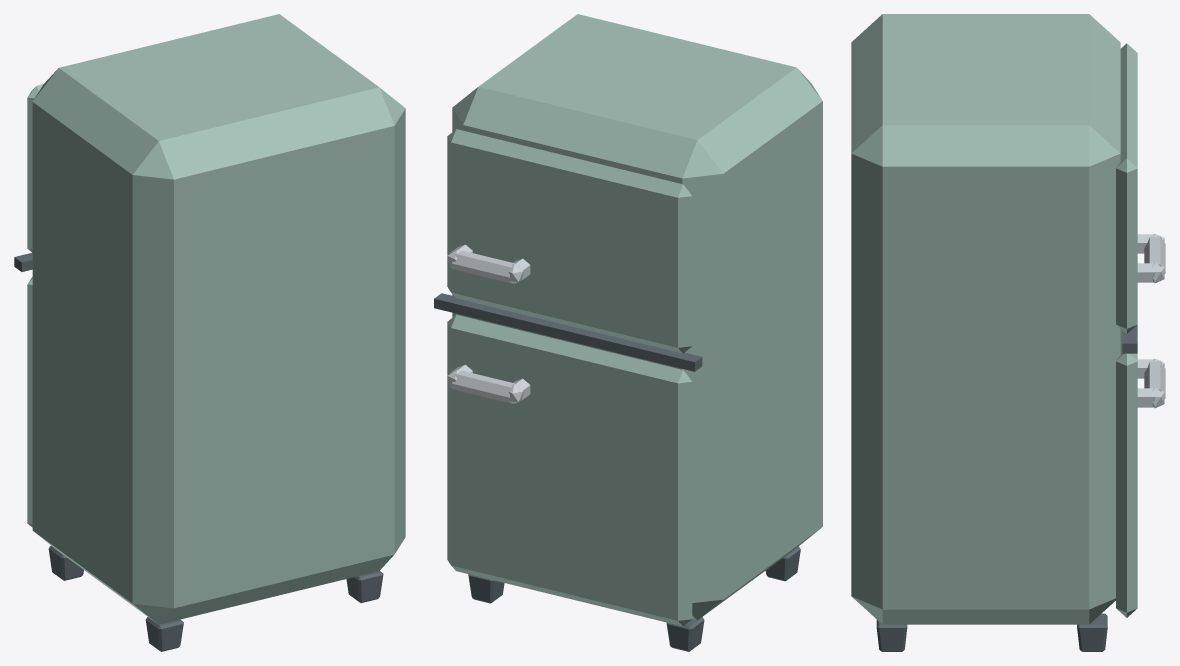
File: BUILD0039_VintageRefrigerator.fbx
3 views of the same model, side by side, from view 1: azimuth 30°, elevation 25°; view 2: azimuth 150°, elevation 25°; view 3: azimuth 270°, elevation 25° (orthographic). The views are drawn at different scales.
Parts seen in each view (by area): view 1: BUILD0039_VintageRefrigerator; view 2: BUILD0039_VintageRefrigerator; view 3: BUILD0039_VintageRefrigerator.
Part boxes in pixels (x1=…): BUILD0039_VintageRefrigerator: x1=14, y1=14, x2=405, y2=651; BUILD0039_VintageRefrigerator: x1=434, y1=14, x2=822, y2=651; BUILD0039_VintageRefrigerator: x1=851, y1=14, x2=1165, y2=651.
Bounding box in the file's own units: 1.04 × 1.86 × 1.
